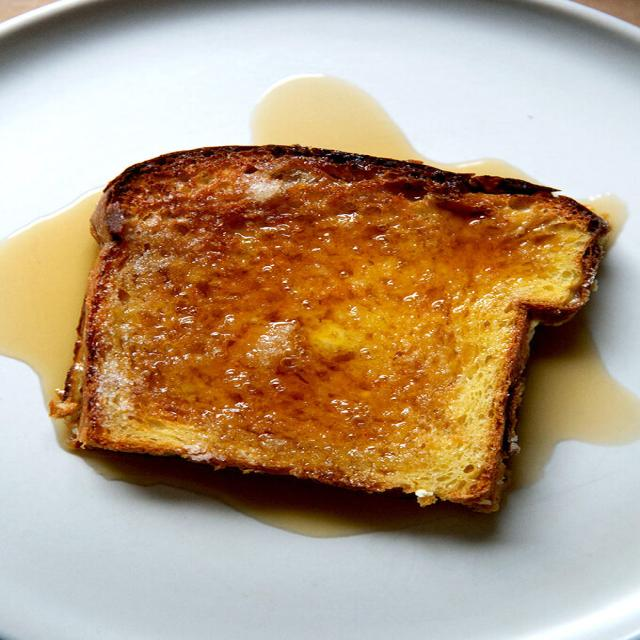Bread: (52, 145, 608, 511)
